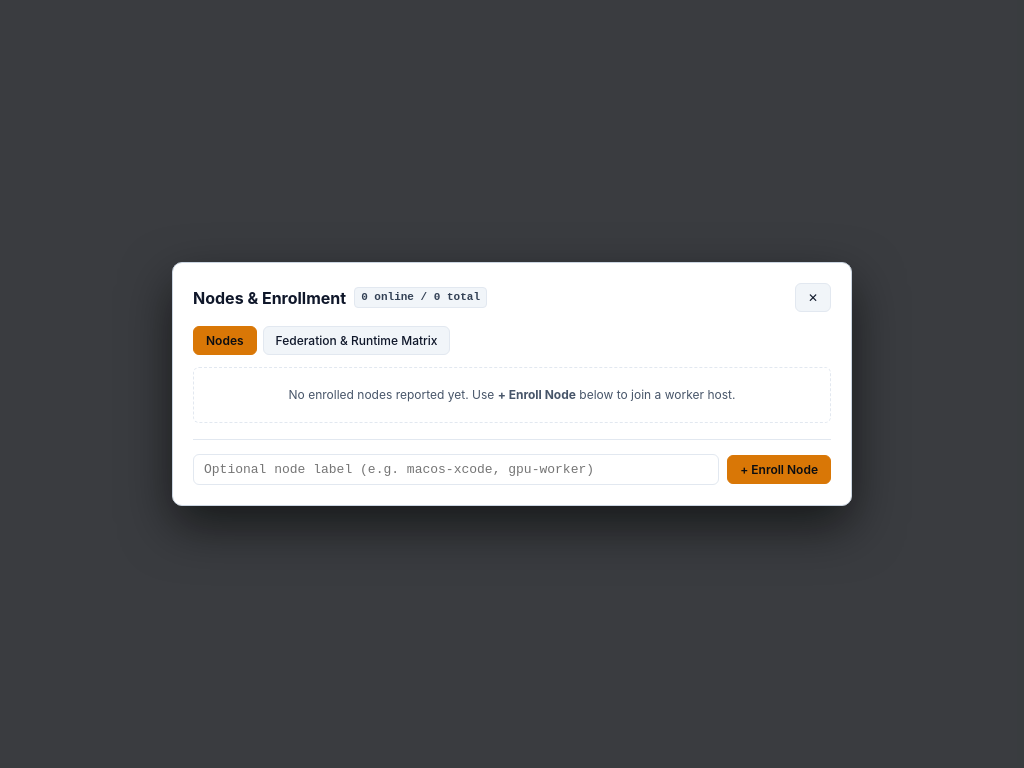
NodesModal secrets and keyboard › does not claim 'Copied' when the clipboard write fails
Step 1. Click the button with test id "enroll-node-btn" → (779, 470), box [727,455,831,484]
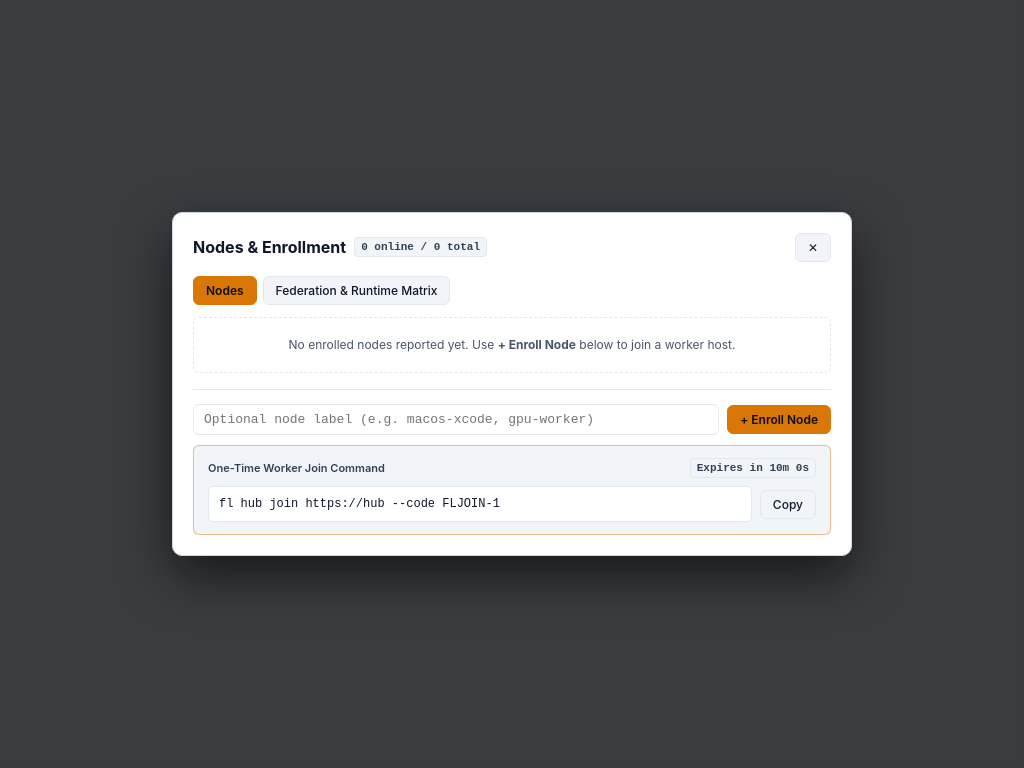
expect the text "fl hub join https://hub --code FLJOIN-1" is shown: met, box [208,486,752,522]
Step 2. Click the button with test id "copy-join-command-btn" → (788, 504), box [760,490,816,519]
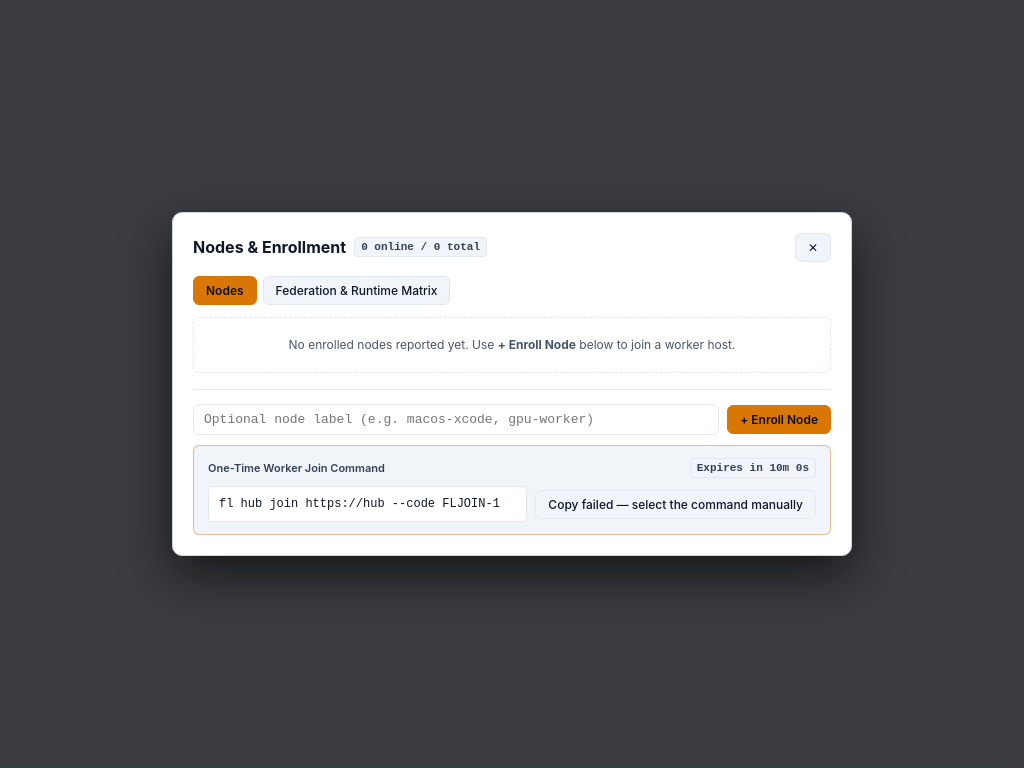
expect the button with test id "copy-join-command-btn" does not show "Copied": met, box [535,490,816,519]
expect the button with test id "copy-join-command-btn" shows "Copy failed": met, box [535,490,816,519]
